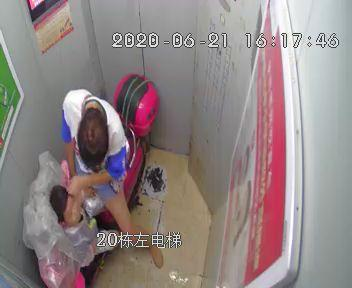Electric-bicycle: (28, 71, 158, 284)
